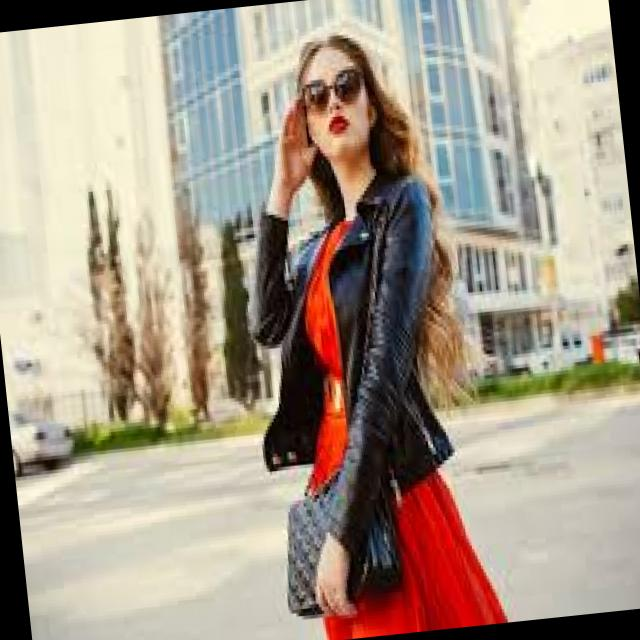Jacket: (252, 170, 454, 484)
